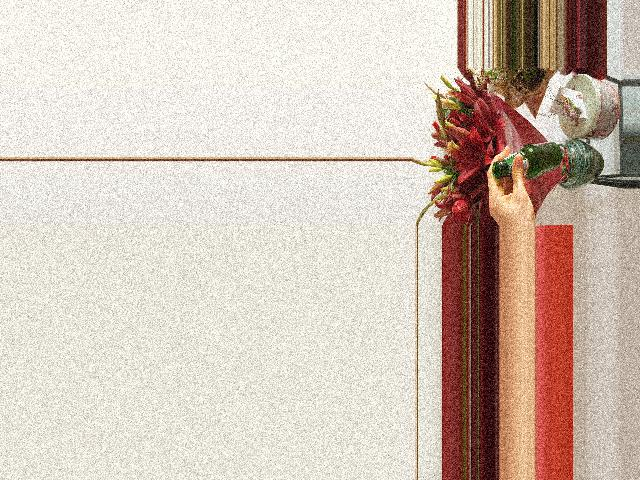beer: (493, 141, 561, 179)
